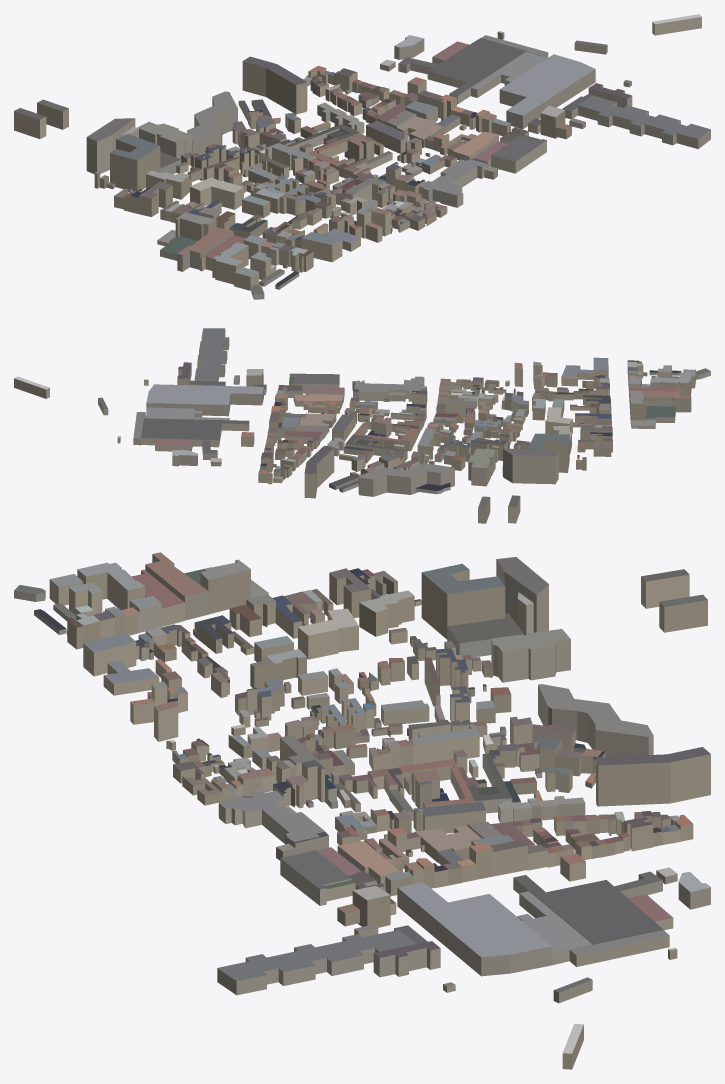
The picture shows the model from 3 angles, top to bottom: view 1: azimuth 30°, elevation 25°; view 2: azimuth 150°, elevation 25°; view 3: azimuth 270°, elevation 25°; orthographic projection. The views are drawn at different scales.
Parts seen in each view (by area): view 1: tuile; view 2: tuile; view 3: tuile.
Part boxes in pixels (x1,y1,x2,y2): tuile: (14, 14, 710, 299); tuile: (14, 328, 710, 523); tuile: (14, 552, 710, 1069).
Size of the model in its own units: 719 by 61.12 by 463.
